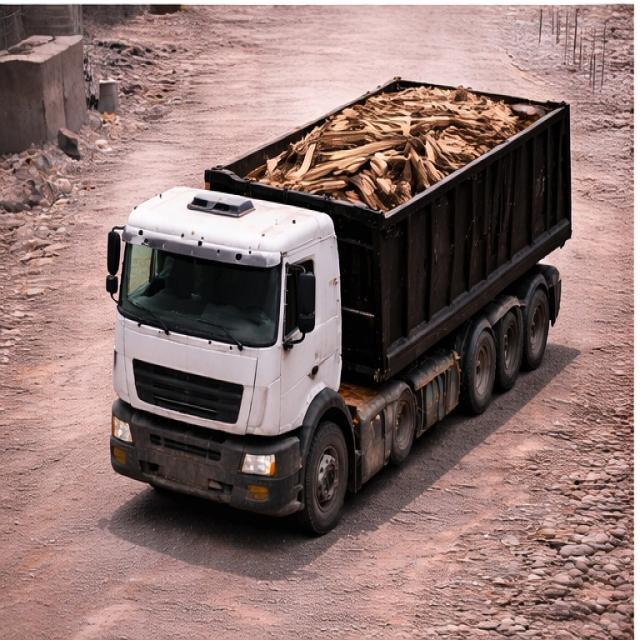trailer: (206, 74, 571, 220)
truck: (105, 55, 595, 519)
